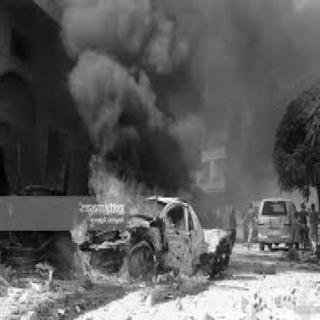Fire: (30, 135, 223, 293)
Smoke: (69, 0, 288, 184)
